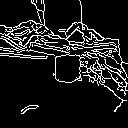cube: (52, 50, 83, 85)
